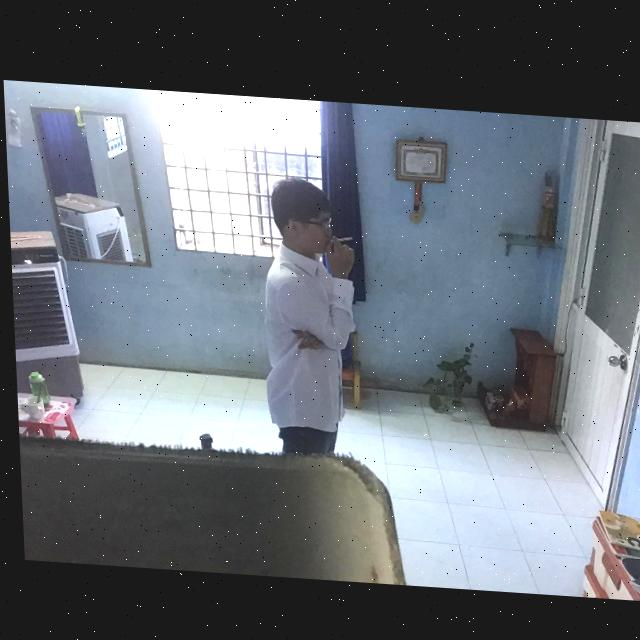cigarette: (328, 231, 351, 238)
